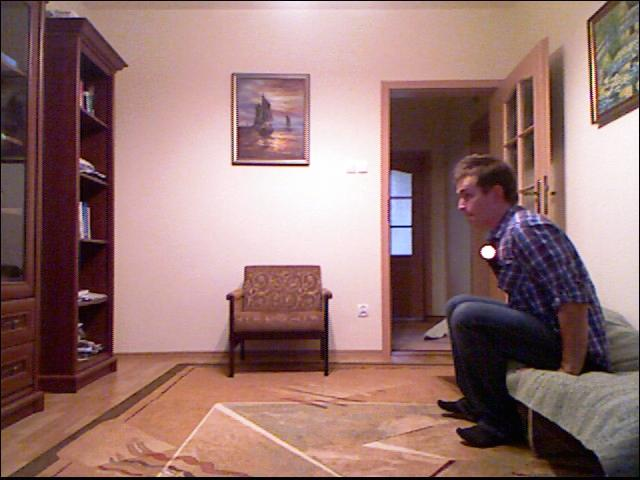sitting: (392, 121, 620, 466)
